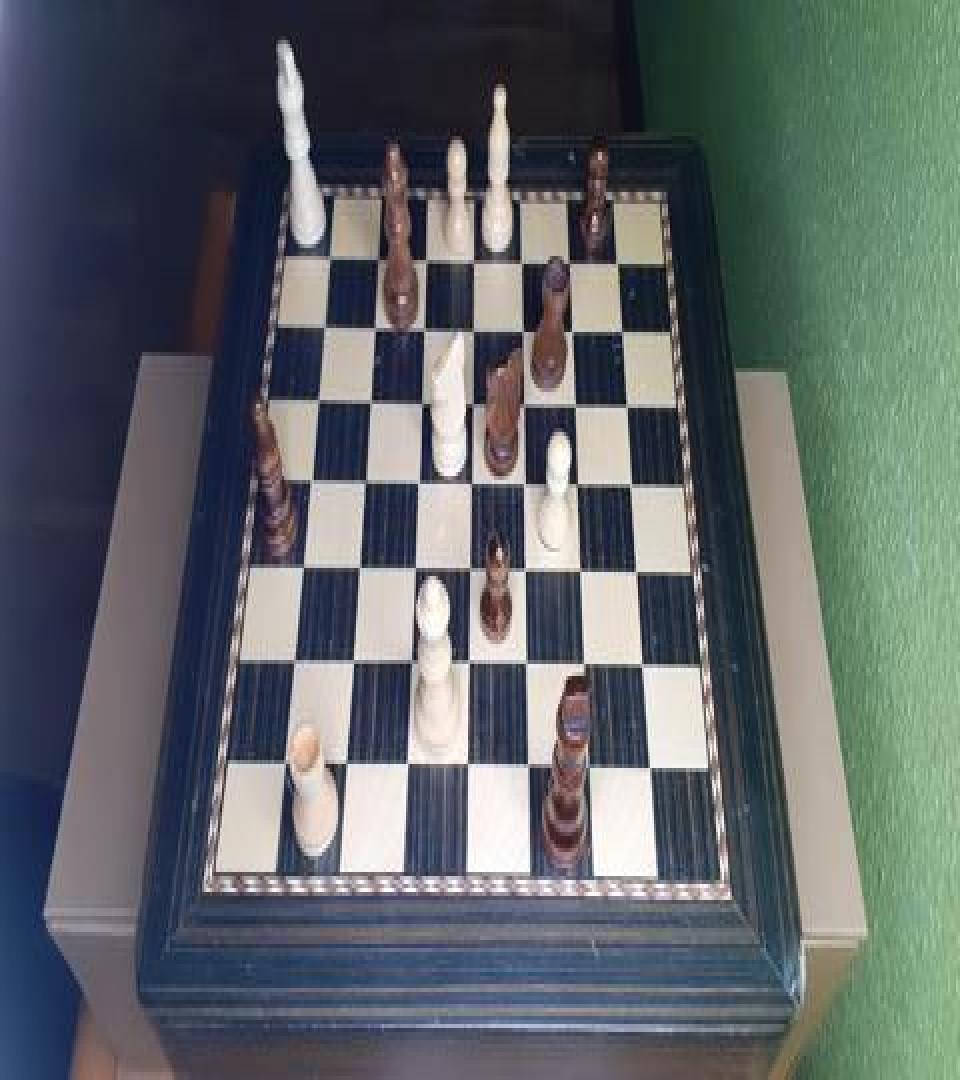xcorner: (613, 248, 627, 276), (564, 246, 578, 274), (516, 246, 530, 274), (468, 244, 482, 272), (419, 242, 433, 270), (371, 242, 385, 270), (322, 240, 336, 268), (617, 318, 631, 346), (567, 316, 581, 344), (517, 316, 531, 344), (467, 314, 481, 342), (417, 312, 431, 340), (366, 312, 380, 340), (316, 310, 330, 338), (622, 392, 636, 420), (570, 392, 584, 420), (518, 390, 532, 418), (466, 388, 480, 416), (414, 388, 428, 416), (362, 386, 376, 414), (309, 386, 323, 414), (627, 474, 641, 502), (573, 472, 587, 500), (519, 470, 533, 498), (465, 470, 479, 498), (411, 468, 425, 496), (356, 468, 370, 496), (302, 466, 316, 494), (633, 560, 647, 588), (577, 560, 591, 588), (520, 558, 534, 586), (464, 558, 478, 586), (407, 556, 421, 584), (351, 556, 365, 584), (294, 554, 308, 582), (639, 656, 653, 684), (580, 654, 594, 682), (522, 654, 536, 682), (463, 652, 477, 680), (404, 652, 418, 680), (345, 650, 359, 678), (285, 650, 299, 678), (646, 760, 660, 788), (585, 758, 599, 786), (523, 758, 537, 786), (461, 756, 475, 784), (400, 756, 414, 784), (338, 754, 352, 782), (276, 754, 290, 782)
